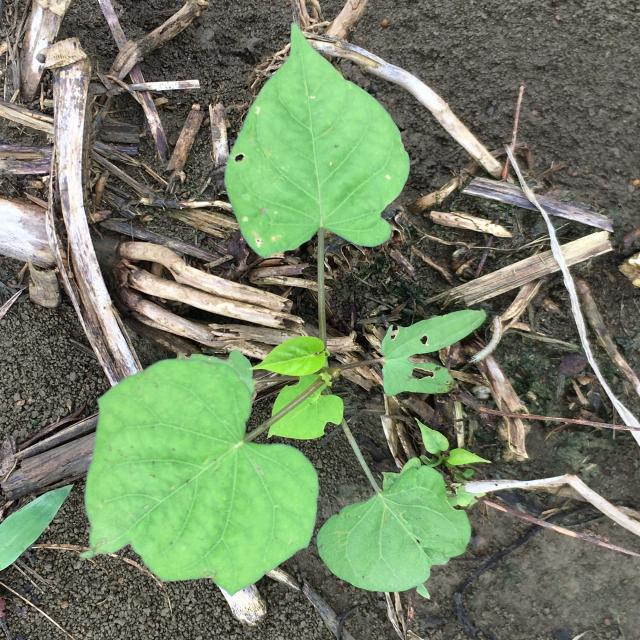MorningGlory: (80, 23, 487, 597)
